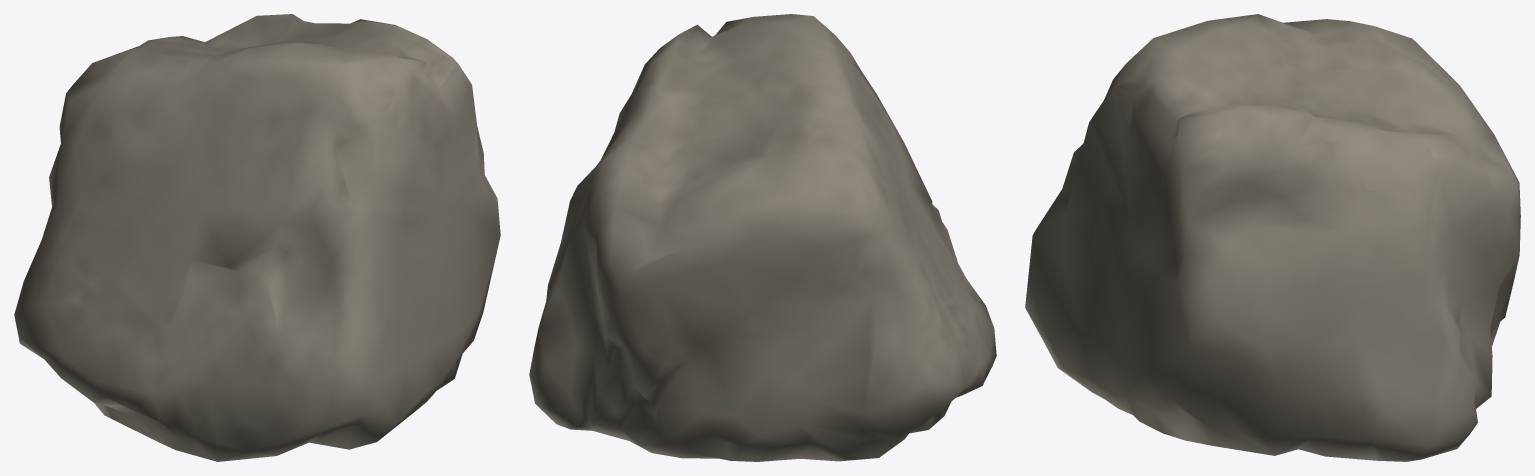
The model's file is ph_moonrock_2.glb.
3 views of the same model, side by side, from view 1: azimuth 30°, elevation 25°; view 2: azimuth 150°, elevation 25°; view 3: azimuth 270°, elevation 25° (orthographic). The views are drawn at different scales.
Parts seen in each view (by area): view 1: ph_moonrock_2_lod1; view 2: ph_moonrock_2_lod1; view 3: ph_moonrock_2_lod1.
Part boxes in pixels (<box>): ph_moonrock_2_lod1: <box>14,14,500,461</box>; ph_moonrock_2_lod1: <box>529,14,996,461</box>; ph_moonrock_2_lod1: <box>1025,14,1520,461</box>.
Bounding box in the file's own units: 0.247 × 0.2024 × 0.2513.
1 material, 1 textured.
